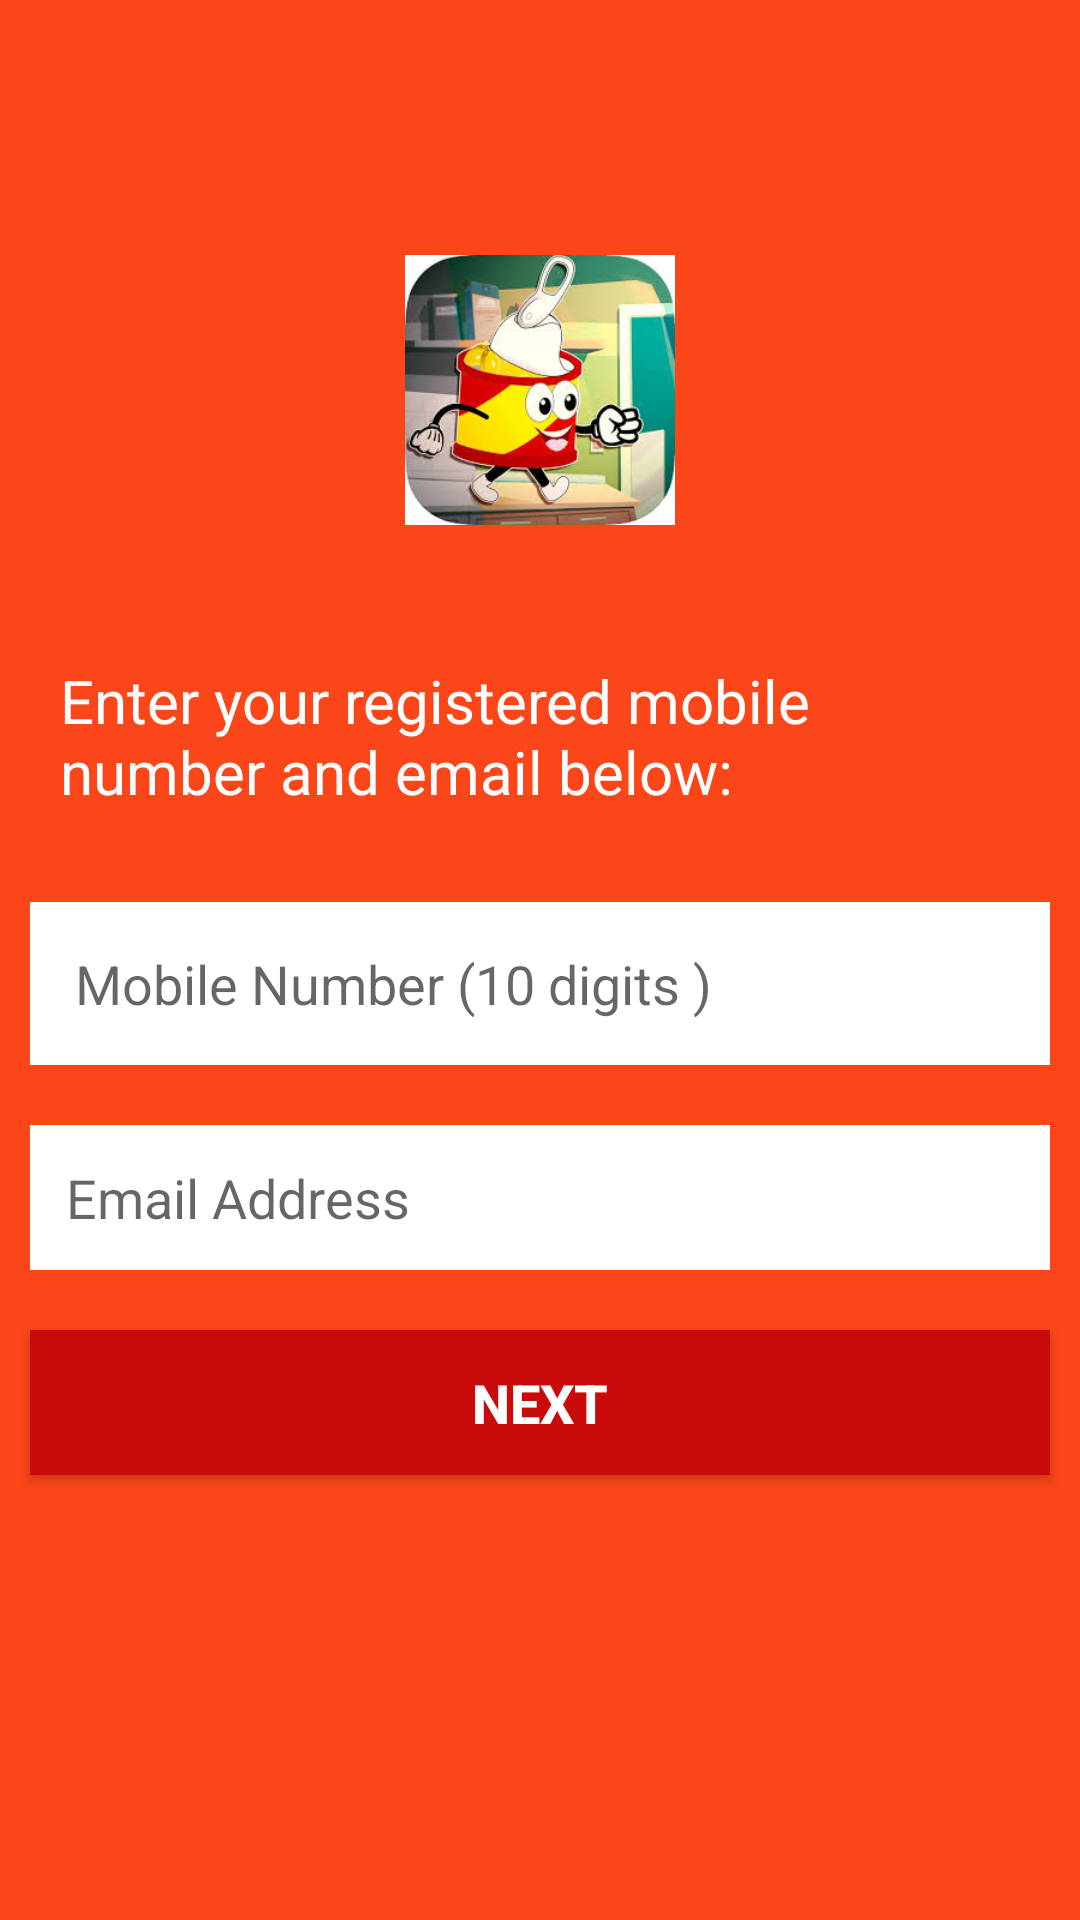

Icons on this 1080 x 1920 Android screen, each with the point to tap as (x,y):
foodpic: (540,390)
